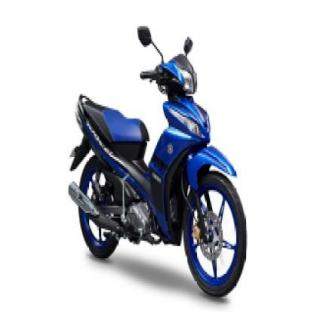Motocicleta: (64, 15, 253, 302)
